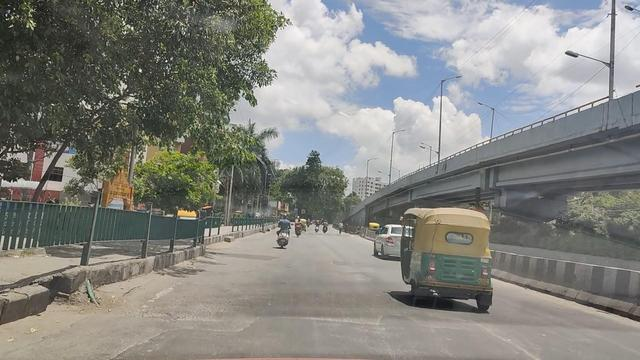LMV: (417, 213, 503, 314)
RoadDamages: (138, 298, 216, 334), (439, 326, 532, 348), (312, 309, 384, 333)
